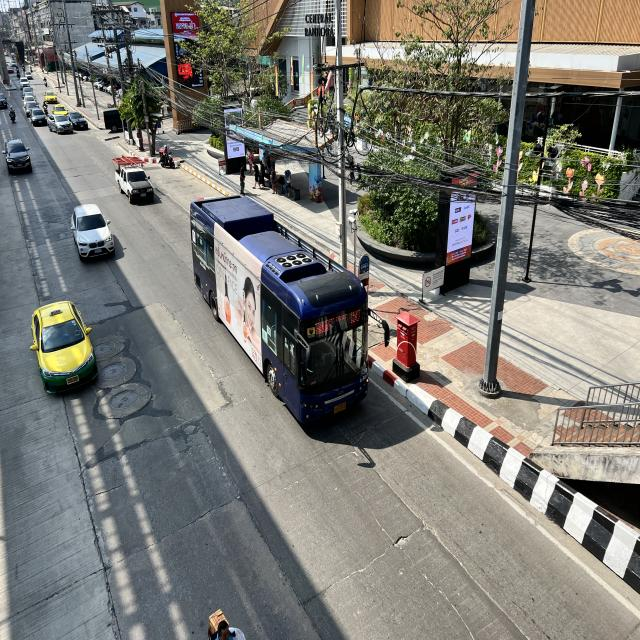Bus-Line-Number: (350, 308, 361, 324)
Destination-Sign-Normal: (314, 312, 348, 338)
TSB-Bus: (186, 196, 372, 432)
